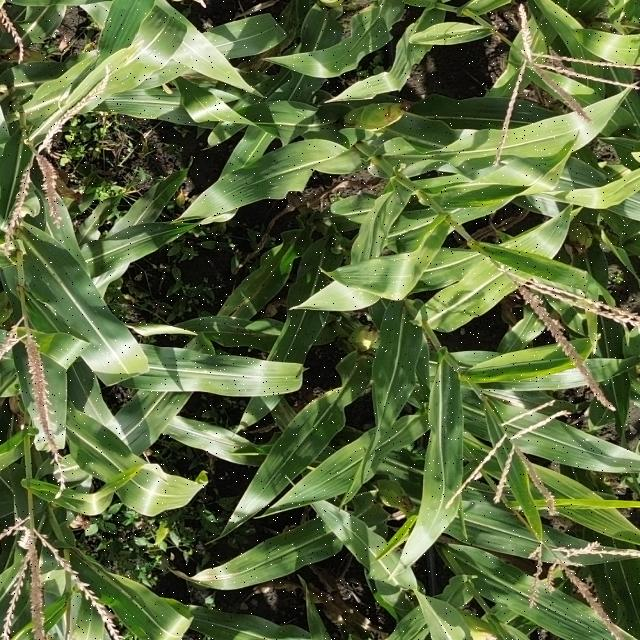gray-leaf-spot: (366, 250, 420, 297)
northern-leaf-blight: (172, 564, 260, 600)
southern-leaf-blight: (426, 380, 468, 450), (113, 599, 166, 640), (176, 44, 216, 76)
